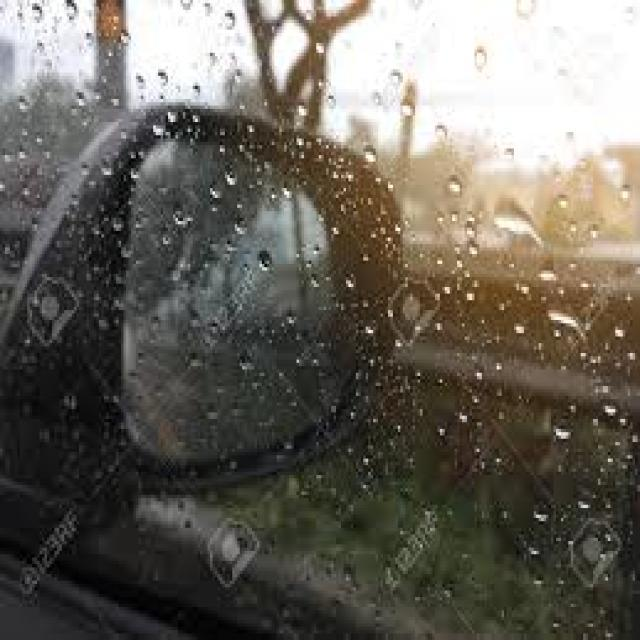raindrop: (489, 180, 558, 273), (530, 302, 601, 366)
